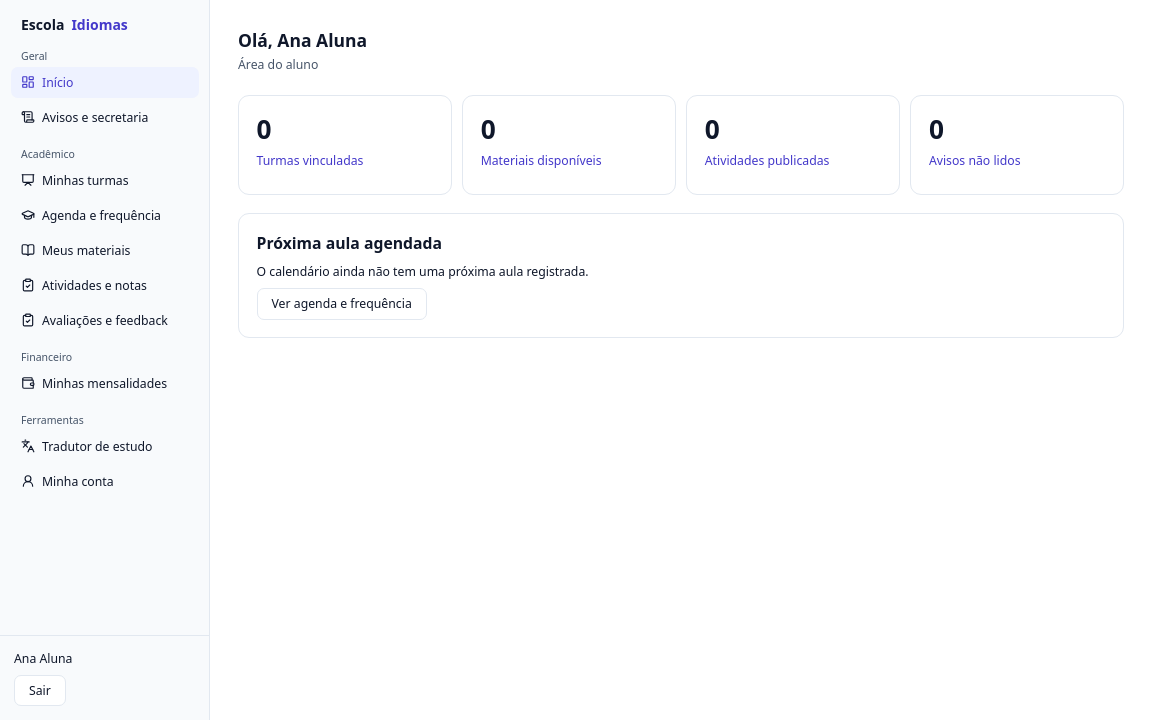
it: aluno recebe sua área e logout elimina os dados mesmo quando a rede falha
Check: the heading "Olá, Ana Aluna" is shown, box 238,28 -> 367,52
Click the button "Sair". click: (40, 690)
box: 14,674 -> 66,706
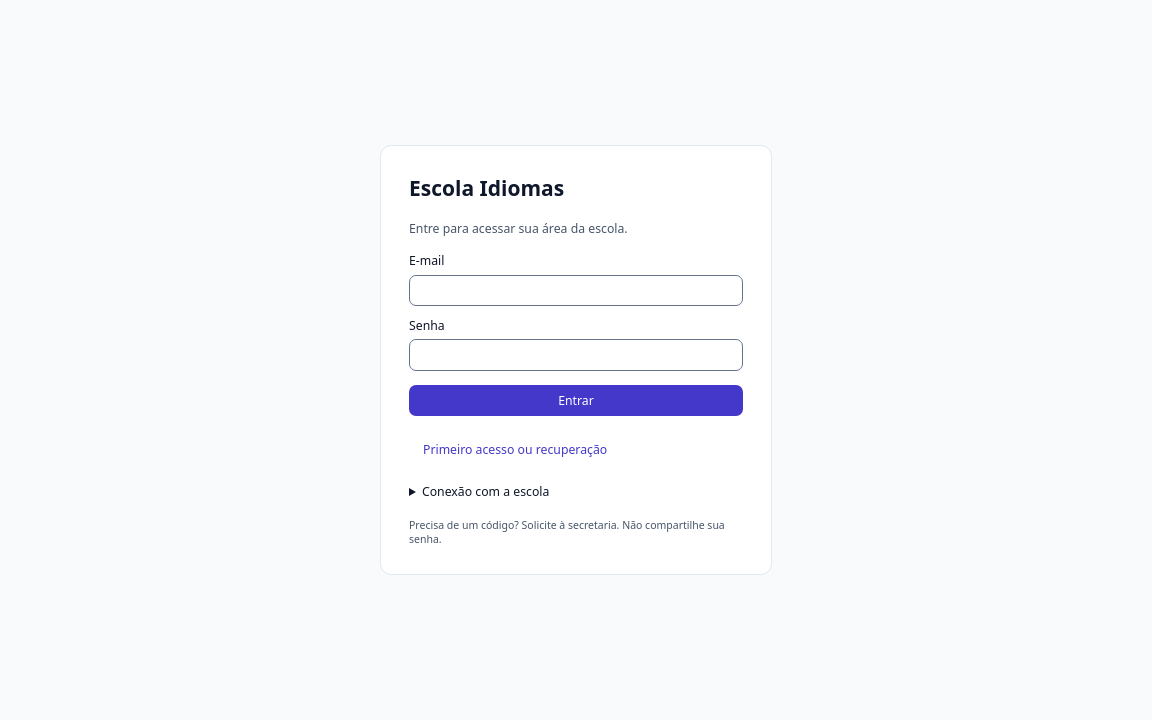
Check: the heading "Olá, Ana Aluna" is gone
Check: the button "Entrar" is shown, box 409,385 -> 743,416
